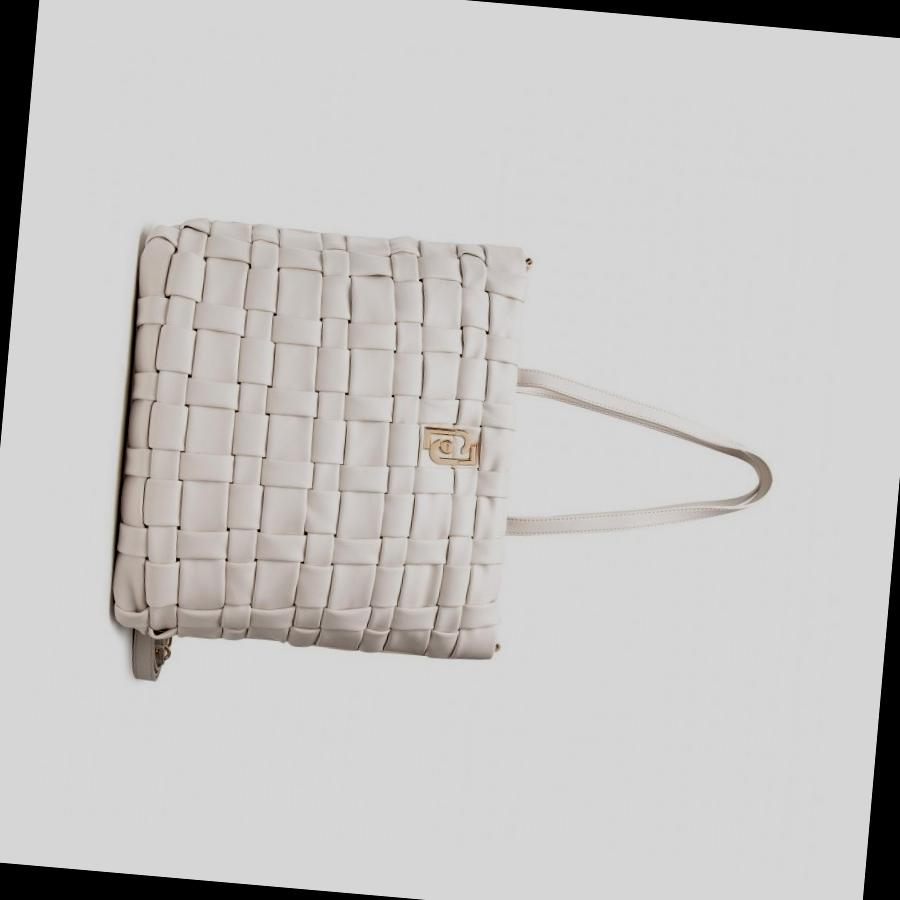LIU-JO: (420, 424, 478, 468)
